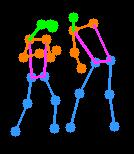normal: (61, 7, 122, 139), (6, 16, 65, 139)
